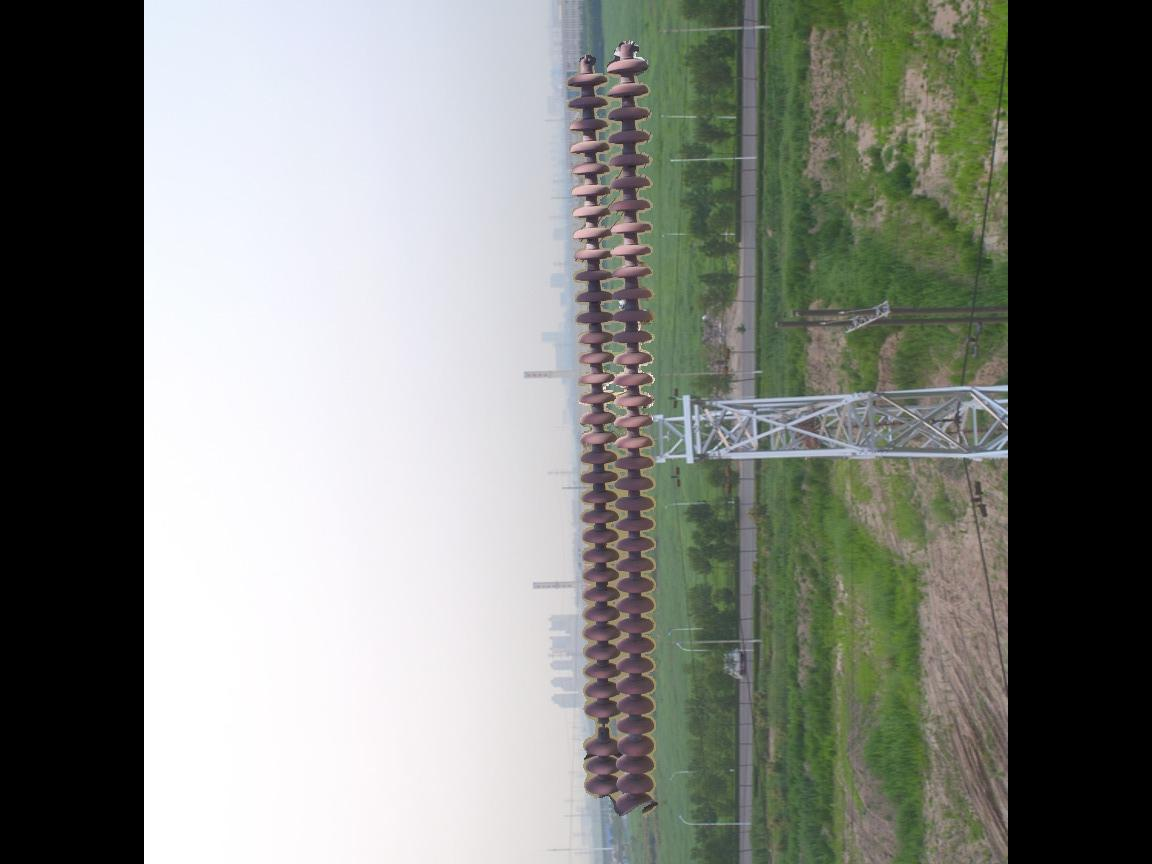insulator: (563, 48, 662, 819)
insulator_stringdrop: (579, 695, 622, 759)
